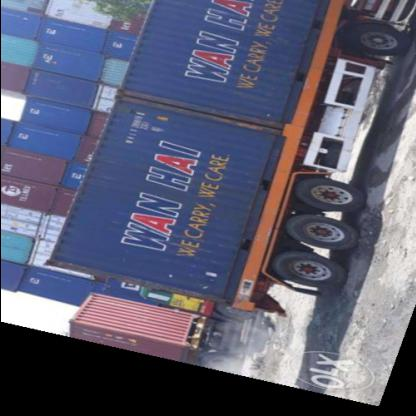Damage: (43, 246, 224, 312), (113, 82, 286, 134)
